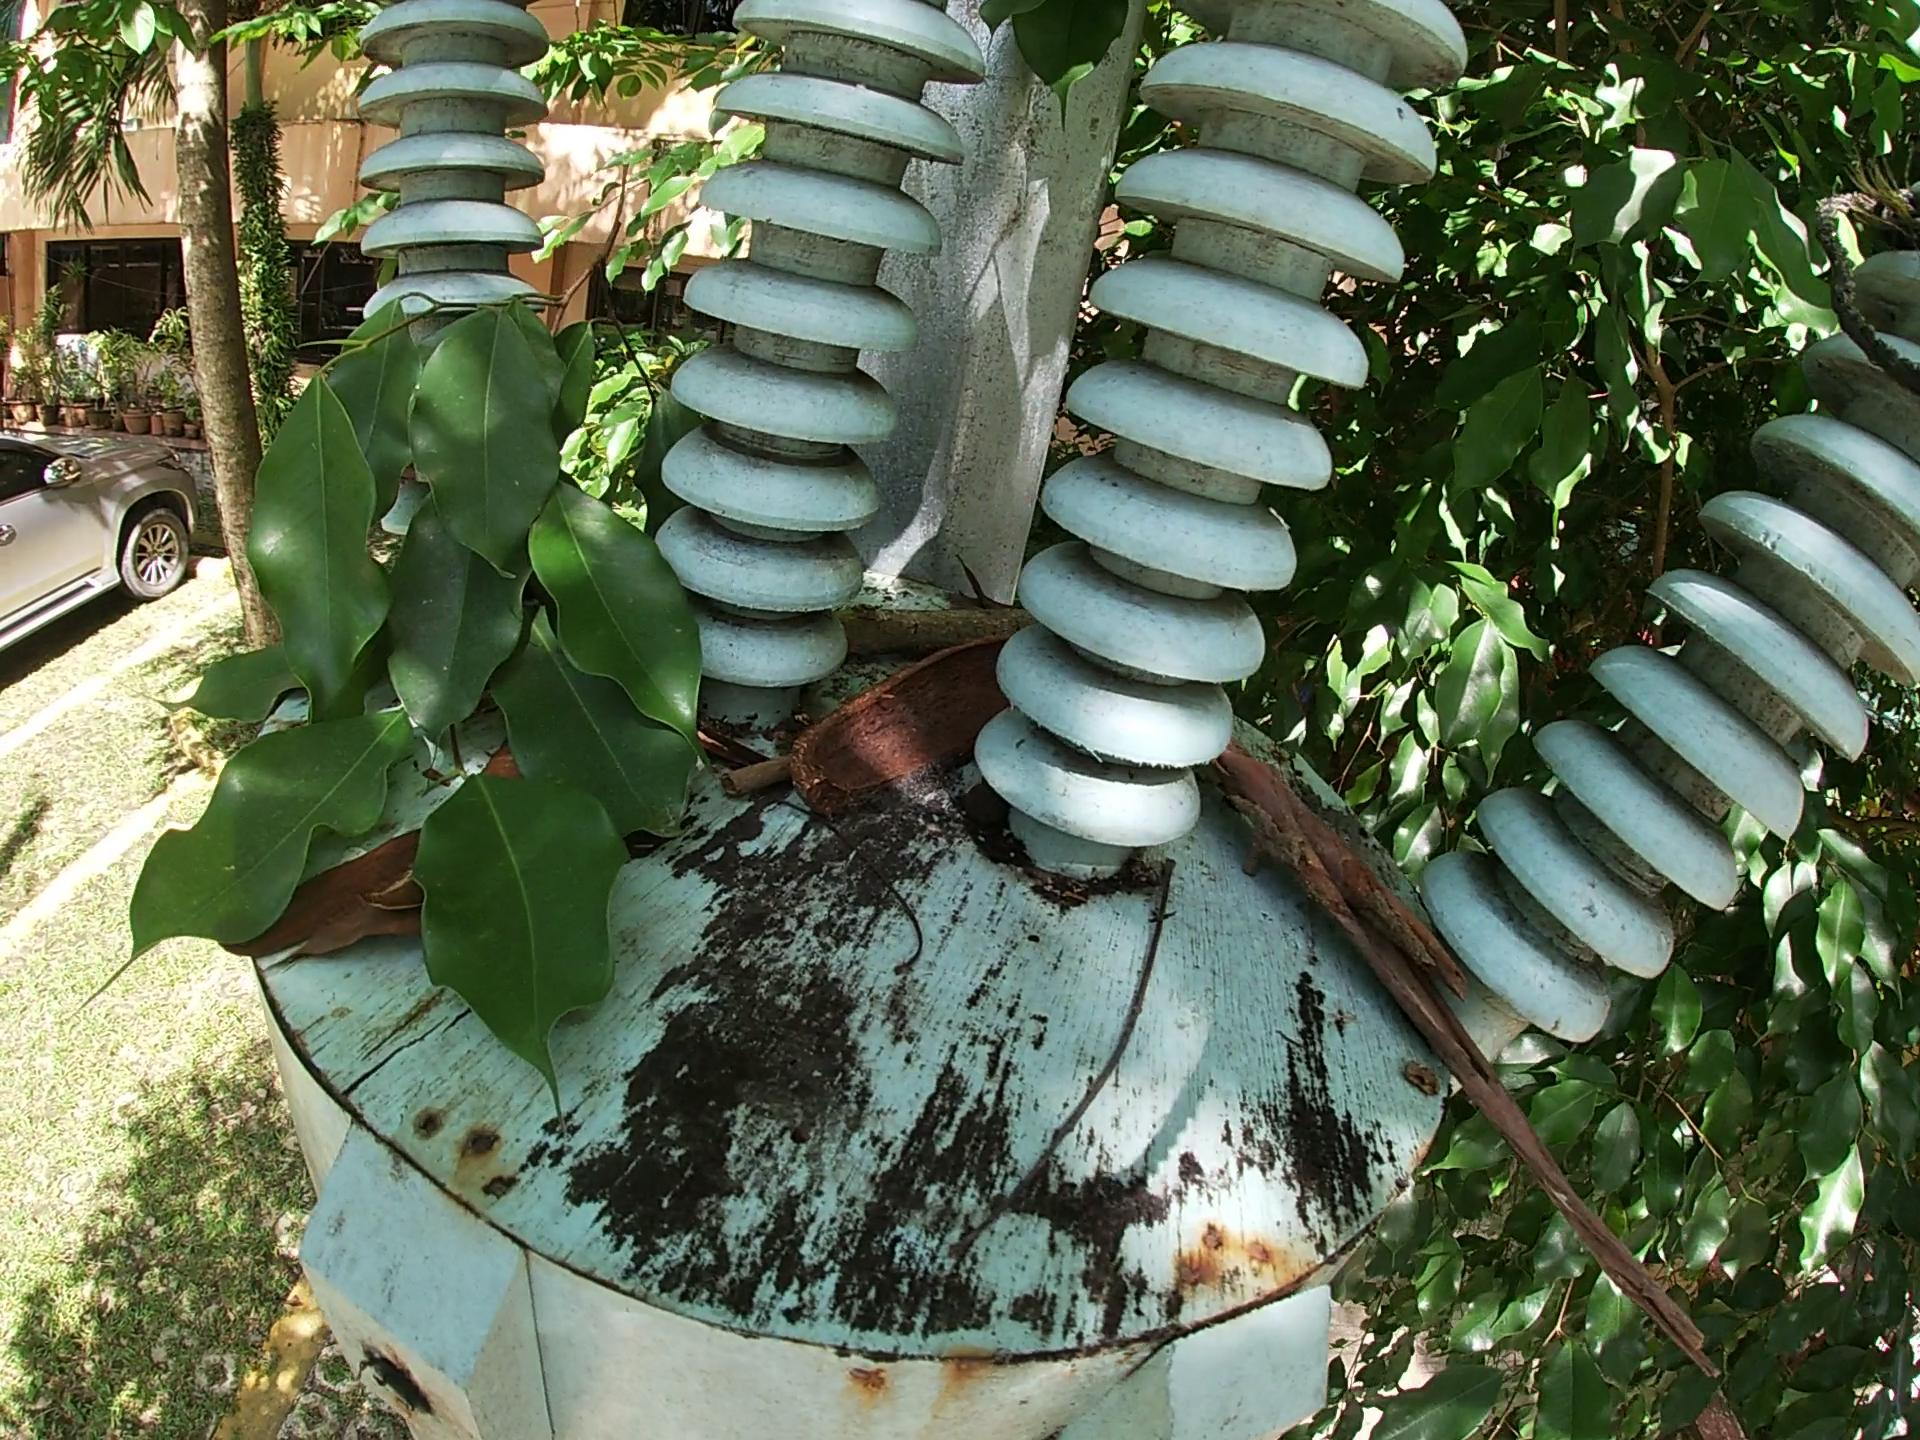branch with leaves: (113, 154, 730, 1190)
mahogany fruit: (800, 646, 1040, 814), (187, 829, 429, 964)
tree branch: (1208, 735, 1757, 1410), (943, 861, 1208, 1275), (766, 805, 927, 989), (831, 601, 1084, 672), (317, 888, 443, 964), (709, 755, 806, 817)
